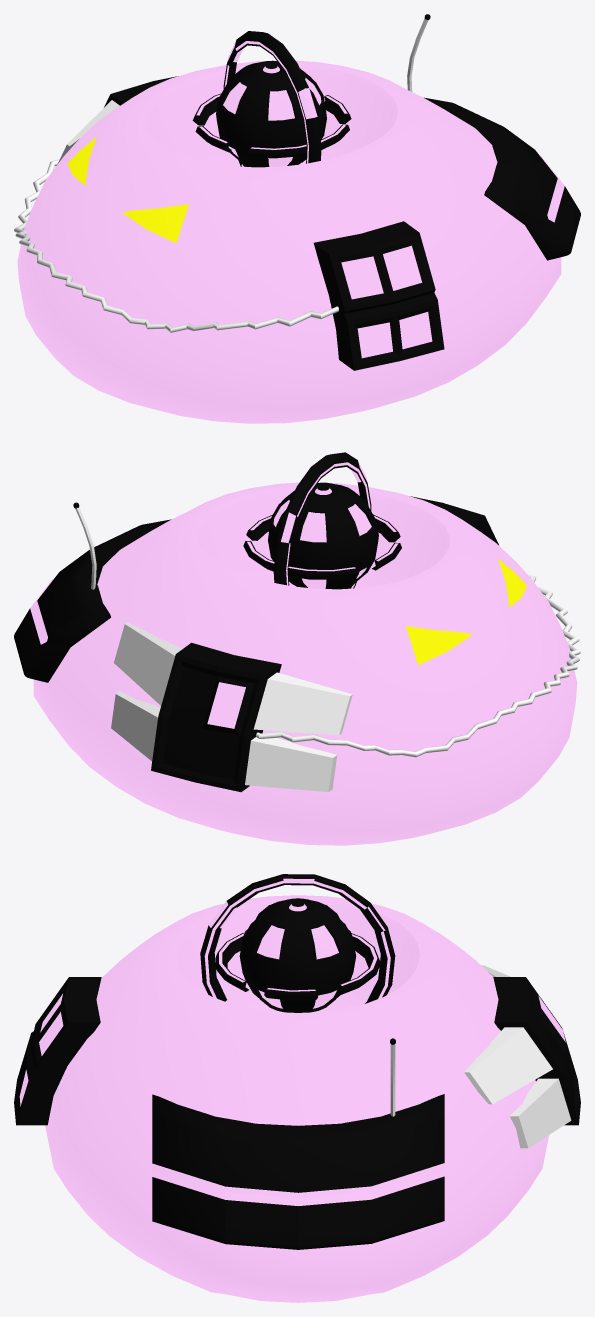
The model's file is Телепортер.FBX.
3 views of the same model, one above another, from view 1: azimuth 30°, elevation 25°; view 2: azimuth 150°, elevation 25°; view 3: azimuth 270°, elevation 25° (orthographic). The views are drawn at different scales.
Visible parts, largest first — view 1: Box201, Sphere057, Object050, Object049; view 2: Box201, Sphere057, Object050, Object049; view 3: Box201, Sphere057, Object050, Object049.
Boxes of the visible parts, <box> form: Box201: <box>14,14,580,423</box>; Sphere057: <box>216,60,326,167</box>; Object050: <box>223,31,321,166</box>; Object049: <box>192,93,351,158</box>; Box201: <box>14,482,580,845</box>; Sphere057: <box>268,482,378,589</box>; Object050: <box>273,452,371,588</box>; Object049: <box>243,514,401,579</box>; Box201: <box>14,895,580,1302</box>; Sphere057: <box>239,898,356,1012</box>; Object050: <box>200,874,395,1003</box>; Object049: <box>215,933,380,1000</box>.
Size of the model in its own units: 105 by 62.07 by 96.77.
